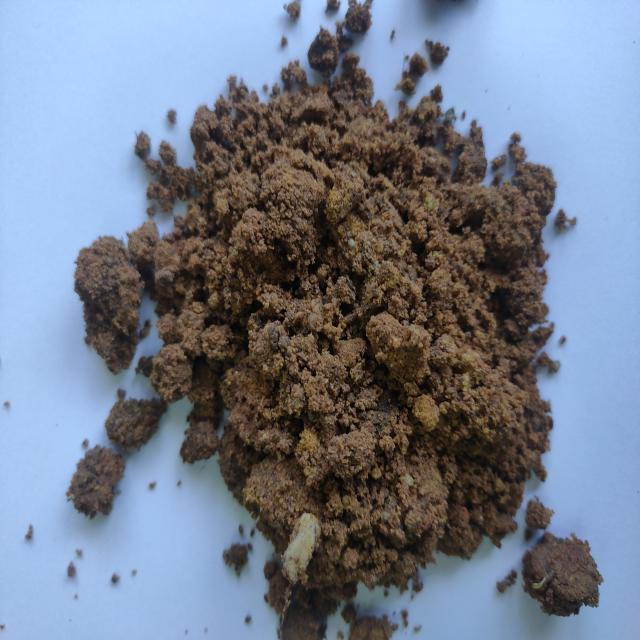soil: (205, 174, 512, 487)
